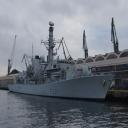Fragata: (8, 20, 118, 102)
